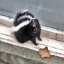skunk: (13, 11, 43, 45)
